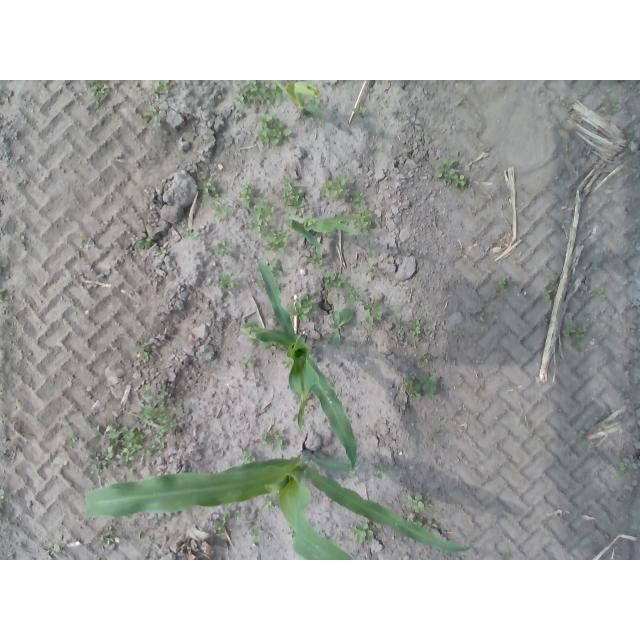Maize: (84, 446, 471, 560), (240, 261, 356, 468), (284, 214, 359, 257), (278, 80, 327, 120)
Weeds: (59, 422, 166, 474), (139, 388, 176, 433), (235, 80, 285, 109), (256, 113, 293, 145), (281, 180, 308, 220), (326, 308, 354, 345), (249, 195, 276, 233), (210, 510, 244, 539), (405, 373, 440, 400), (434, 158, 466, 187), (258, 425, 290, 451), (290, 294, 319, 322), (320, 173, 349, 199), (264, 229, 292, 254), (84, 80, 110, 106), (354, 209, 377, 238), (350, 519, 375, 545), (368, 459, 397, 481), (363, 296, 385, 324), (406, 491, 434, 513), (236, 178, 255, 208), (210, 200, 234, 221), (195, 177, 220, 197), (100, 529, 120, 552), (323, 274, 349, 291), (137, 342, 156, 365), (217, 273, 240, 292), (211, 240, 234, 257), (541, 279, 559, 300), (143, 105, 162, 124), (408, 316, 424, 338), (150, 80, 172, 96), (350, 188, 369, 206), (428, 426, 448, 443), (44, 544, 63, 561), (269, 258, 284, 279), (495, 278, 513, 295), (261, 497, 278, 514), (260, 342, 282, 355), (240, 354, 257, 370), (308, 250, 324, 267), (589, 286, 608, 300), (562, 328, 586, 339), (179, 226, 201, 238), (348, 286, 363, 303), (237, 449, 255, 463), (367, 263, 380, 282), (135, 238, 153, 251), (614, 460, 626, 479), (249, 528, 263, 543), (392, 315, 404, 330), (406, 517, 423, 527), (420, 352, 433, 365), (352, 105, 368, 115), (572, 425, 586, 436), (310, 95, 321, 107), (78, 230, 88, 243), (330, 538, 344, 547), (367, 249, 378, 259), (539, 440, 549, 449), (0, 289, 6, 304), (1, 264, 8, 274), (425, 519, 432, 529), (0, 490, 6, 501), (479, 313, 485, 323), (155, 245, 165, 251), (20, 242, 28, 247)
